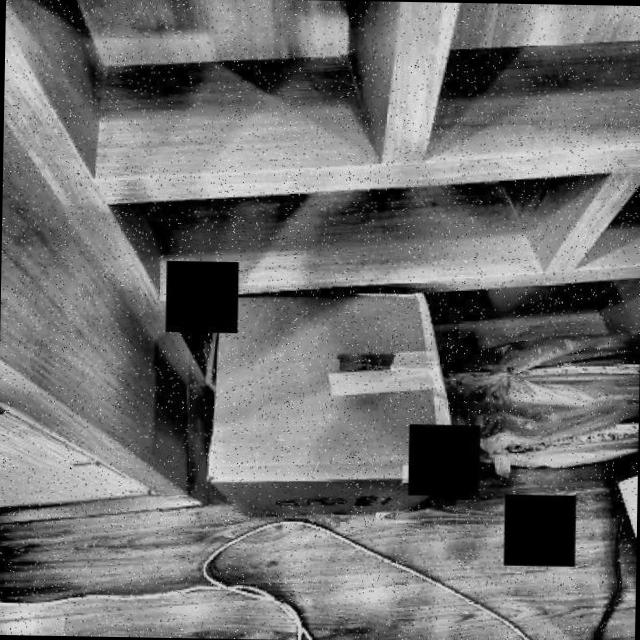box: (186, 282, 460, 532)
